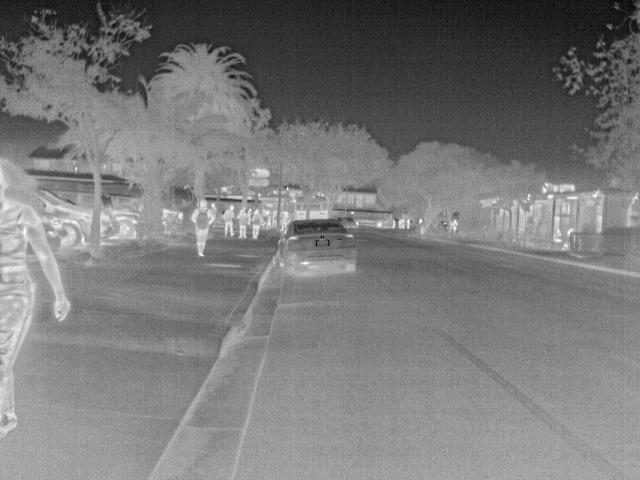car: (273, 220, 356, 278), (37, 188, 95, 244), (107, 205, 139, 239), (99, 211, 120, 243), (163, 206, 187, 234)
person: (4, 157, 75, 441), (189, 200, 215, 258), (248, 207, 264, 244), (223, 204, 238, 240), (449, 214, 462, 234), (553, 228, 566, 243)
